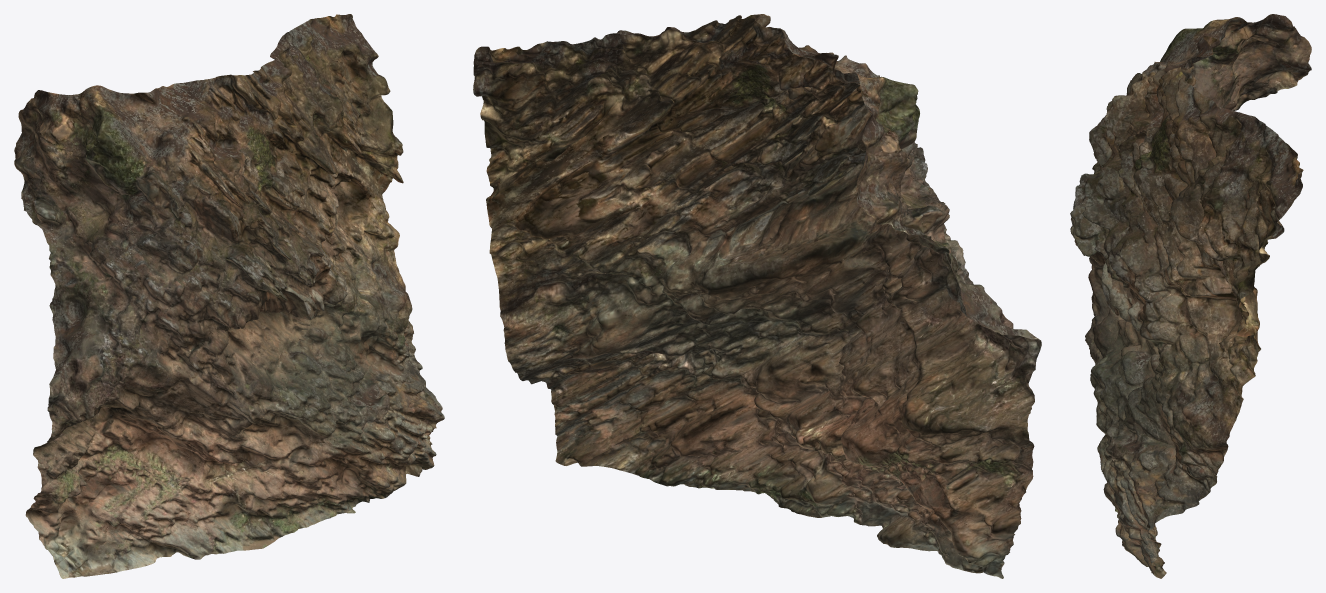
Rendered from mountainside.glb.
3 views of the same model, side by side, from view 1: azimuth 30°, elevation 25°; view 2: azimuth 150°, elevation 25°; view 3: azimuth 270°, elevation 25° (orthographic). The views are drawn at different scales.
Parts seen in each view (by area): view 1: mountainside; view 2: mountainside; view 3: mountainside.
Part boxes in pixels (x1=…): mountainside: x1=14, y1=14, x2=444, y2=578; mountainside: x1=473, y1=14, x2=1041, y2=578; mountainside: x1=1070, y1=14, x2=1311, y2=578.
Bounding box in the file's own units: 10.21 × 10.52 × 5.25.
1 material, 1 textured.
